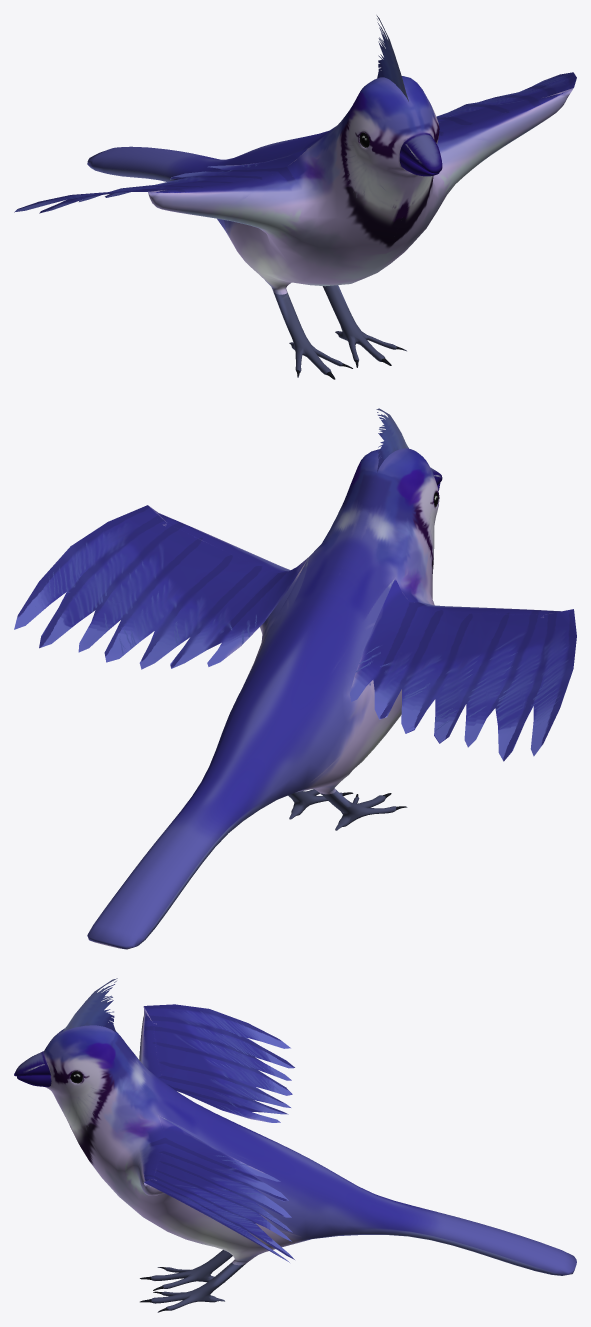
Rendered from Bird.fbx.
3 views of the same model, one above another, from view 1: azimuth 30°, elevation 25°; view 2: azimuth 150°, elevation 25°; view 3: azimuth 270°, elevation 25° (orthographic). The views are drawn at different scales.
Parts seen in each view (by area): view 1: Cube, Plane; view 2: Cube, Plane; view 3: Cube, Plane.
Part boxes in pixels (x1,y1,x2,y2): Cube: (14,72,576,379); Plane: (376,15,408,101); Cube: (14,448,576,949); Plane: (376,408,408,472); Cube: (14,1004,576,1312); Plane: (62,978,117,1032).
Bounding box in the file's own units: 393 × 265 × 430.
